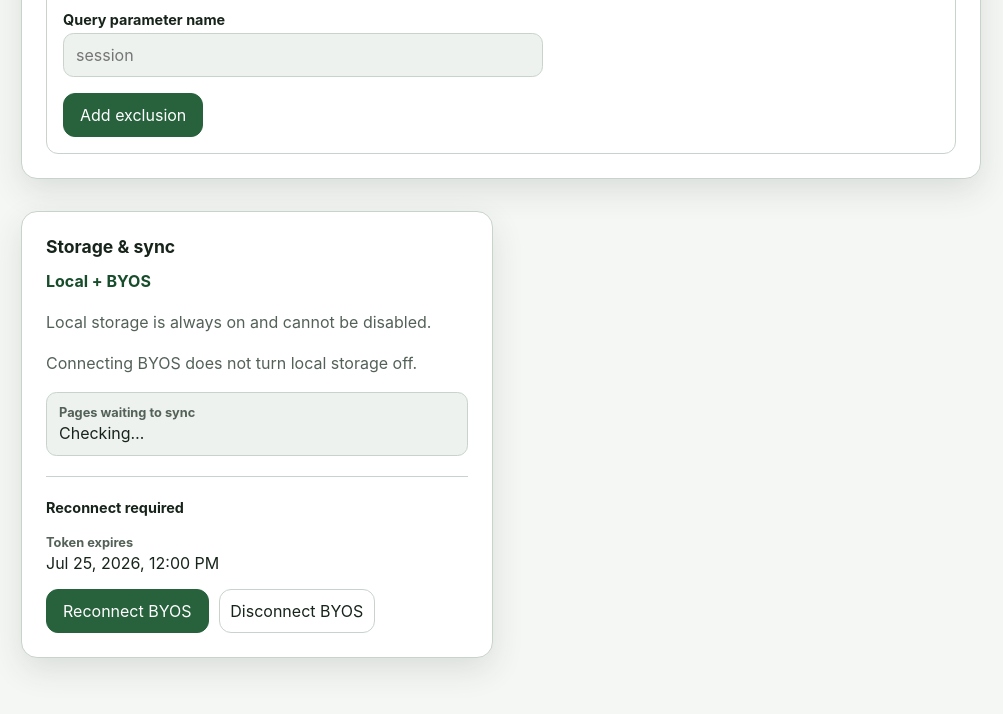
Test: OptionsApp › shows reconnect and disconnect controls for an expired connection
The image size is (1003, 714).
(page scrolled)
Expected: the text "Reconnect required" is shown, [46, 499, 184, 516]
Expected: the button "Disconnect BYOS" is enabled, [219, 589, 375, 633]
Click the button "Reconnect BYOS" at {"x": 127, "y": 611}, box [46, 589, 208, 633]
(page scrolled)
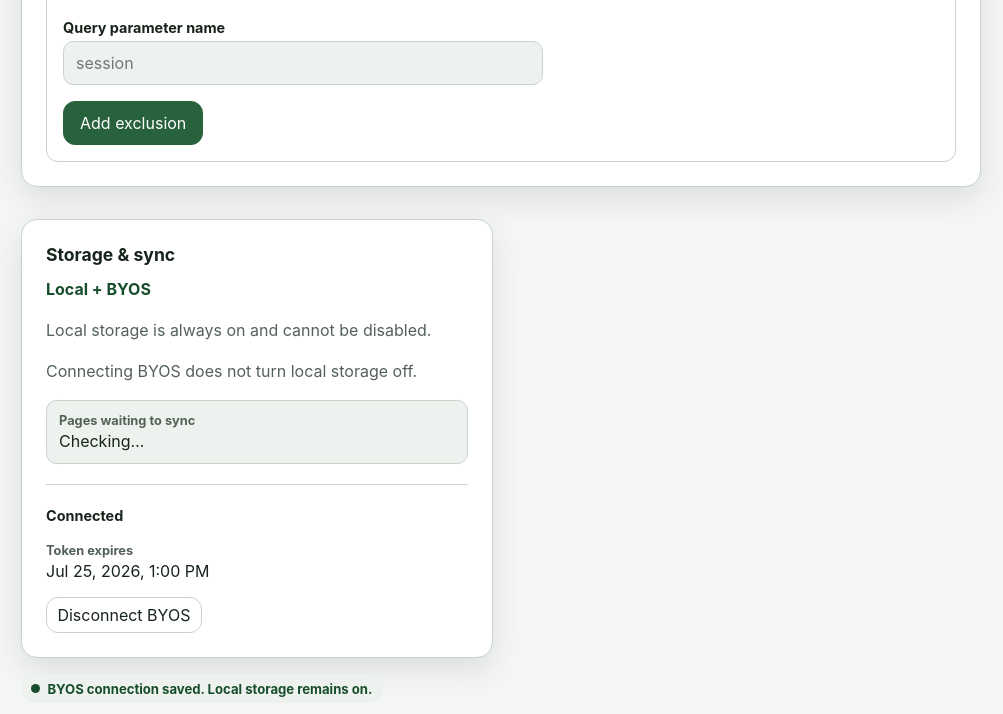
Now the text "Connected" is shown, box [46, 507, 123, 524]
